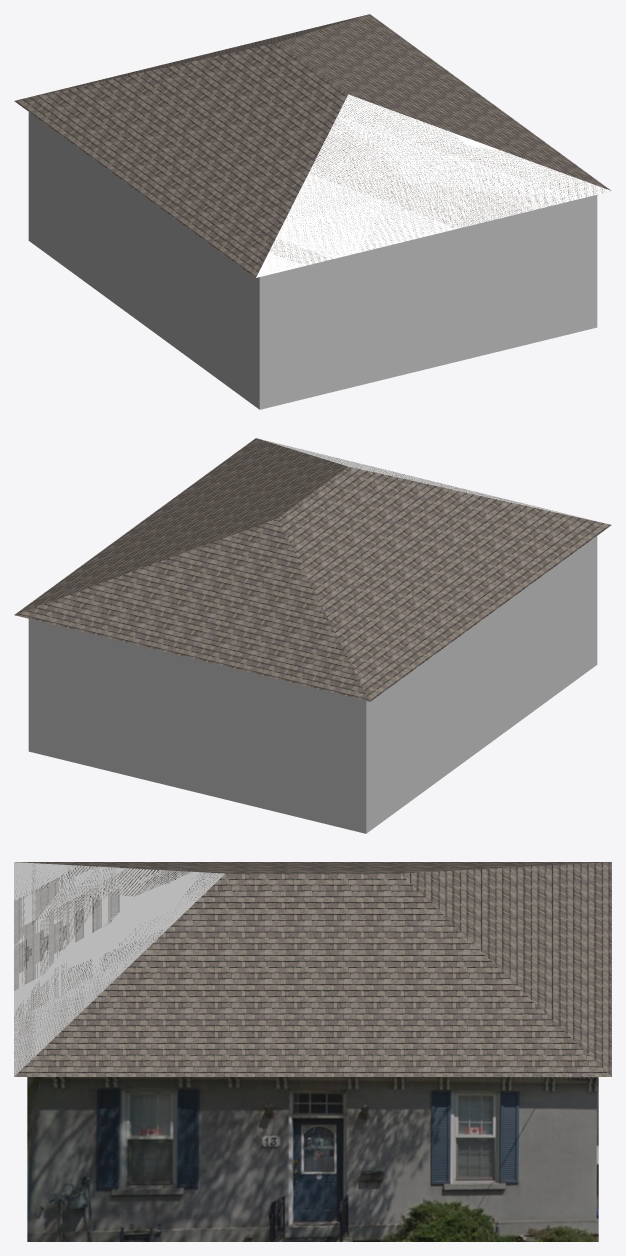
The model's file is 13Augusta.fbx.
3 renders of one model, top to bottom at view 1: azimuth 30°, elevation 25°; view 2: azimuth 150°, elevation 25°; view 3: azimuth 270°, elevation 25°, orthographic. The views are drawn at different scales.
Parts seen in each view (by area): view 1: SketchUp, SketchUp.002; view 2: SketchUp, SketchUp.002; view 3: SketchUp, image_0.
Part boxes in pixels (box(x1,y1,x2,y2)): SketchUp: box(14, 14, 611, 277); SketchUp.002: box(28, 112, 597, 409); SketchUp: box(14, 438, 611, 701); SketchUp.002: box(28, 536, 597, 833); SketchUp: box(14, 862, 611, 1076); image_0: box(27, 1077, 598, 1241).
Bounding box in the file's own units: 1172 × 678 × 1379.
